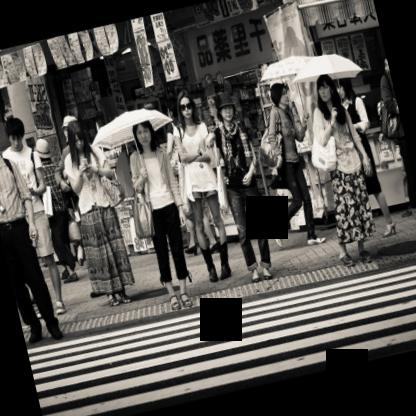handbag: (94, 153, 125, 207), (259, 107, 282, 168), (131, 187, 155, 239), (213, 139, 230, 211), (380, 101, 405, 142), (311, 135, 337, 173), (177, 160, 193, 214), (170, 141, 179, 178), (67, 218, 80, 242)
